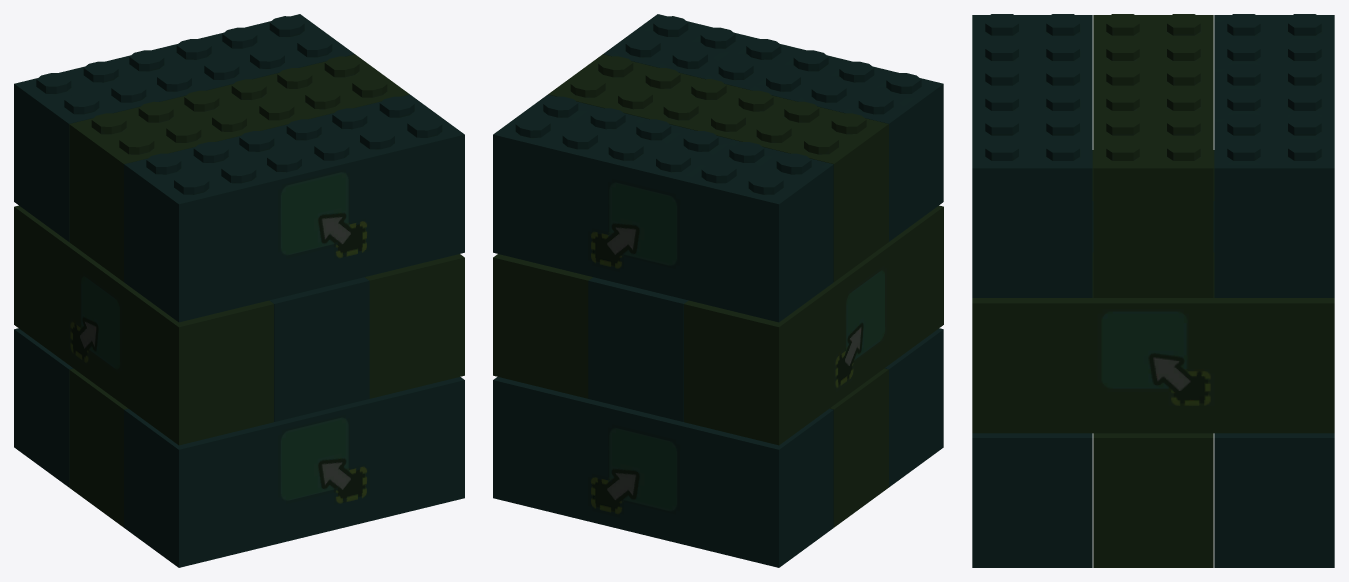
File: InteractableBlock3x3Grow_Unhovered.fbx
3 views of the same model, side by side, from view 1: azimuth 30°, elevation 25°; view 2: azimuth 150°, elevation 25°; view 3: azimuth 270°, elevation 25° (orthographic). The views are drawn at different scales.
Parts seen in each view (by area): view 1: Cube.035; view 2: Cube.035; view 3: Cube.035.
Boxes of the visible parts, x1=… form: Cube.035: x1=14, y1=14, x2=464, y2=567; Cube.035: x1=493, y1=14, x2=943, y2=567; Cube.035: x1=972, y1=14, x2=1334, y2=567.
Bounding box in the file's own units: 457 × 566 × 456.
